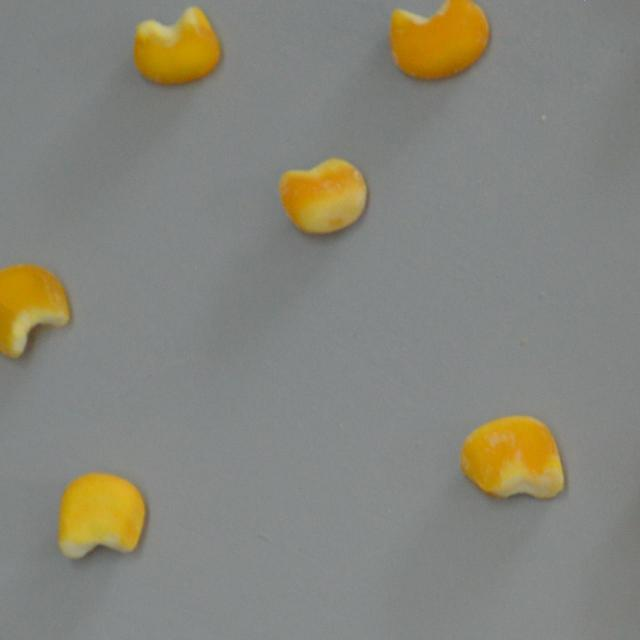dañado: (384, 0, 494, 82), (274, 151, 372, 241), (128, 4, 222, 90), (0, 260, 74, 364)
no_desgerminado: (55, 470, 152, 564)
pelicula: (454, 412, 568, 506)
